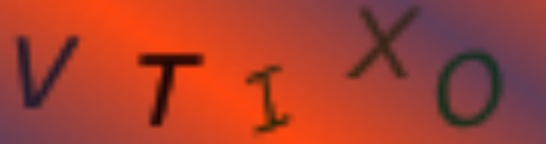I: (242, 61, 295, 137)
O: (431, 51, 508, 127)
T: (125, 50, 209, 128)
V: (9, 29, 80, 112)
X: (345, 1, 432, 83)
